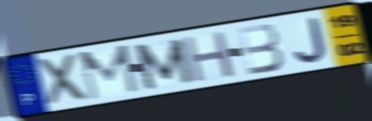B: (235, 22, 286, 77)
H: (181, 29, 238, 85)
J: (291, 15, 329, 65)
M: (77, 42, 142, 103), (131, 36, 196, 92)
X: (35, 51, 91, 109)
